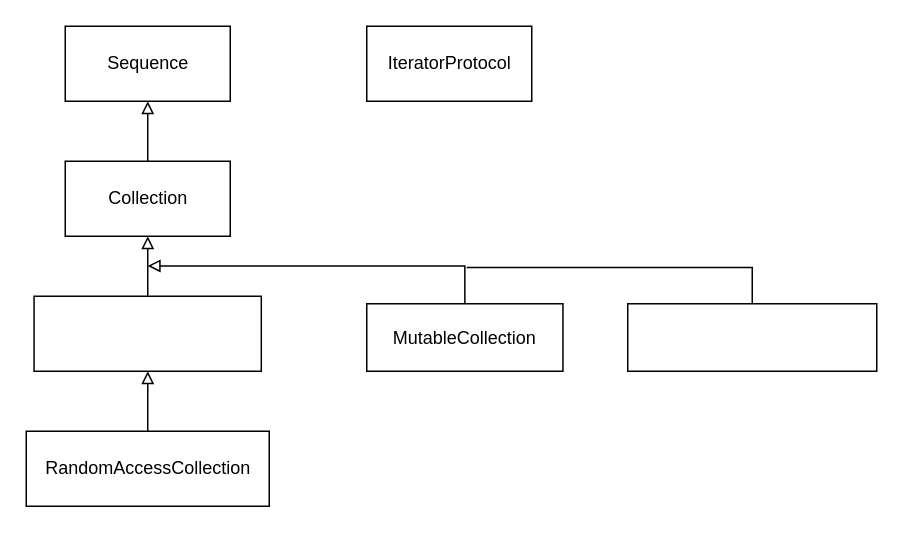
This 903x533 diagram has some shape labels left out. The shapes that lost their labels are listed below. From the top down, each one's box as (x1, y1, x2, y2) in pixels, then its label:
(33, 295, 261, 371): BidirectionalCollection
(626, 302, 877, 371): RangeReplaceableCollection
